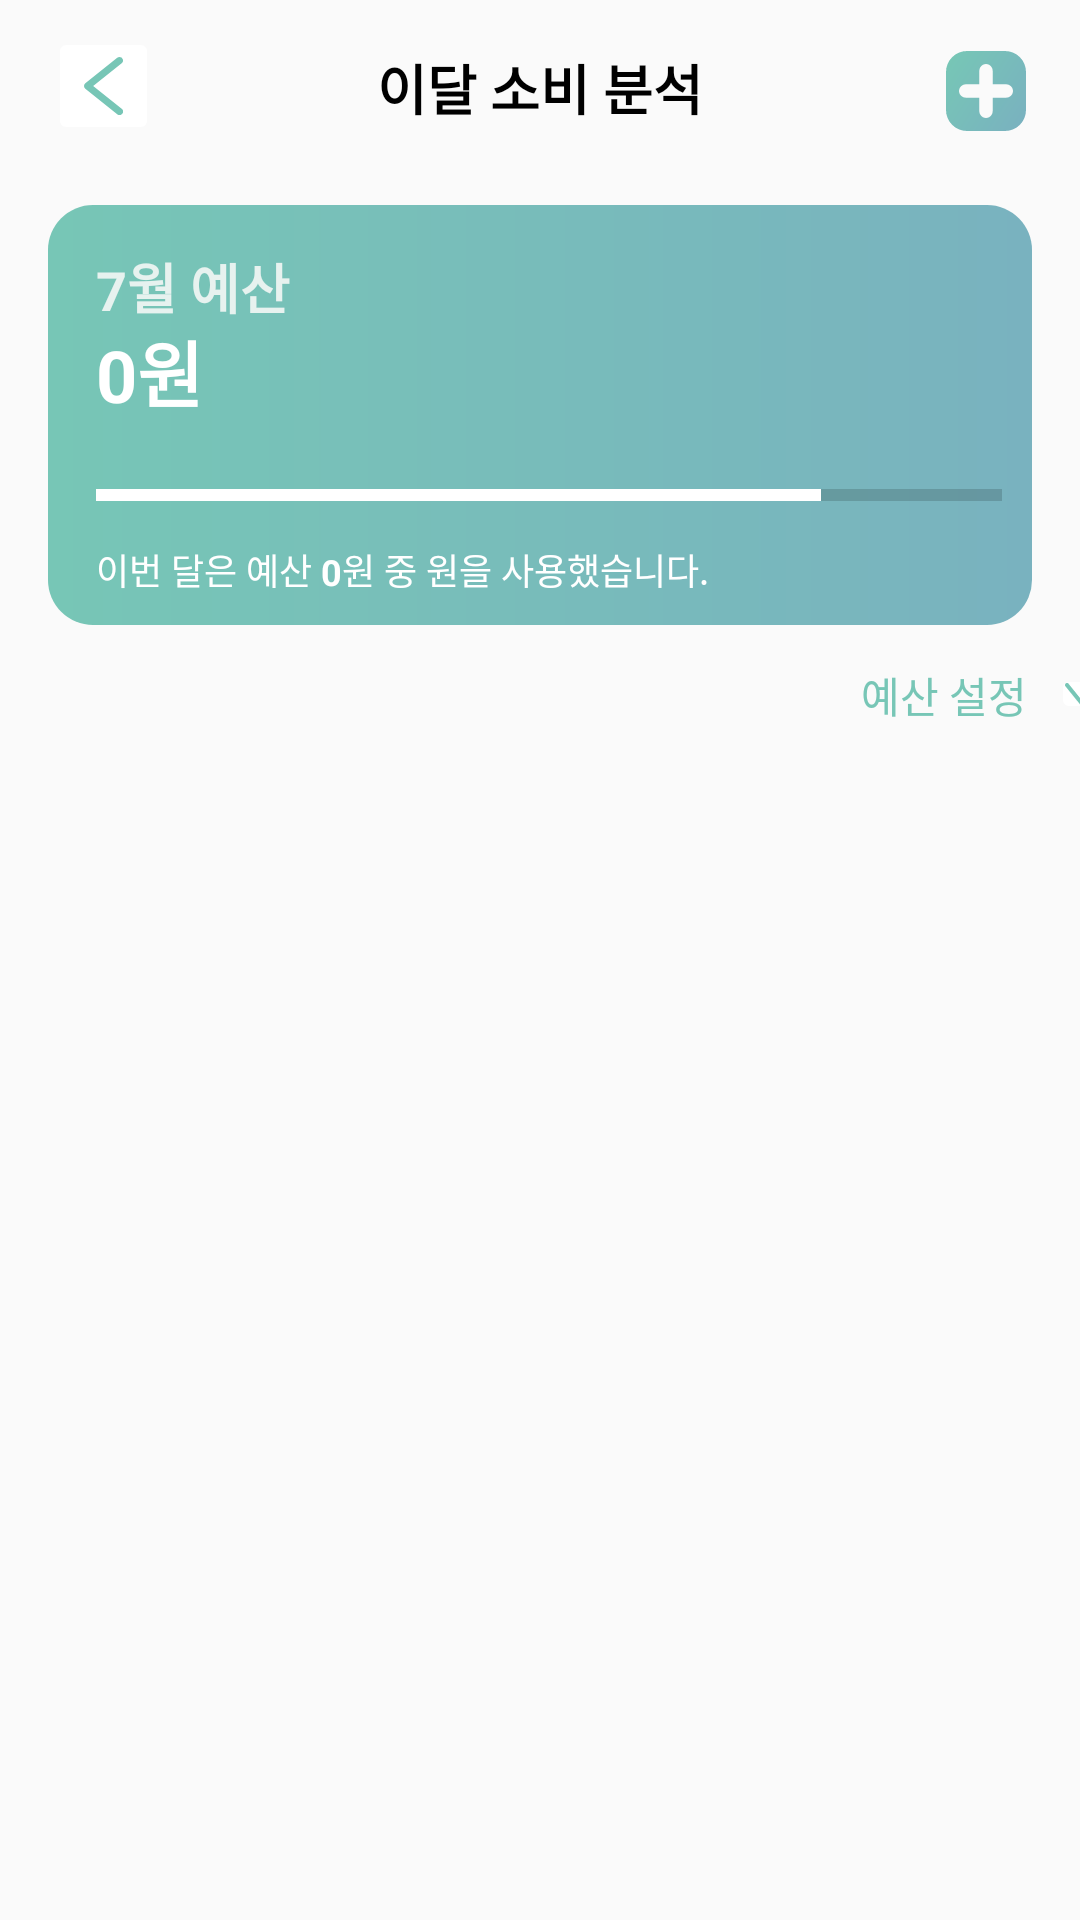

Icon click points for this 1080px×1920px phone screenshot, format (x,y):
back: (103,86)
plus: (986,91)
